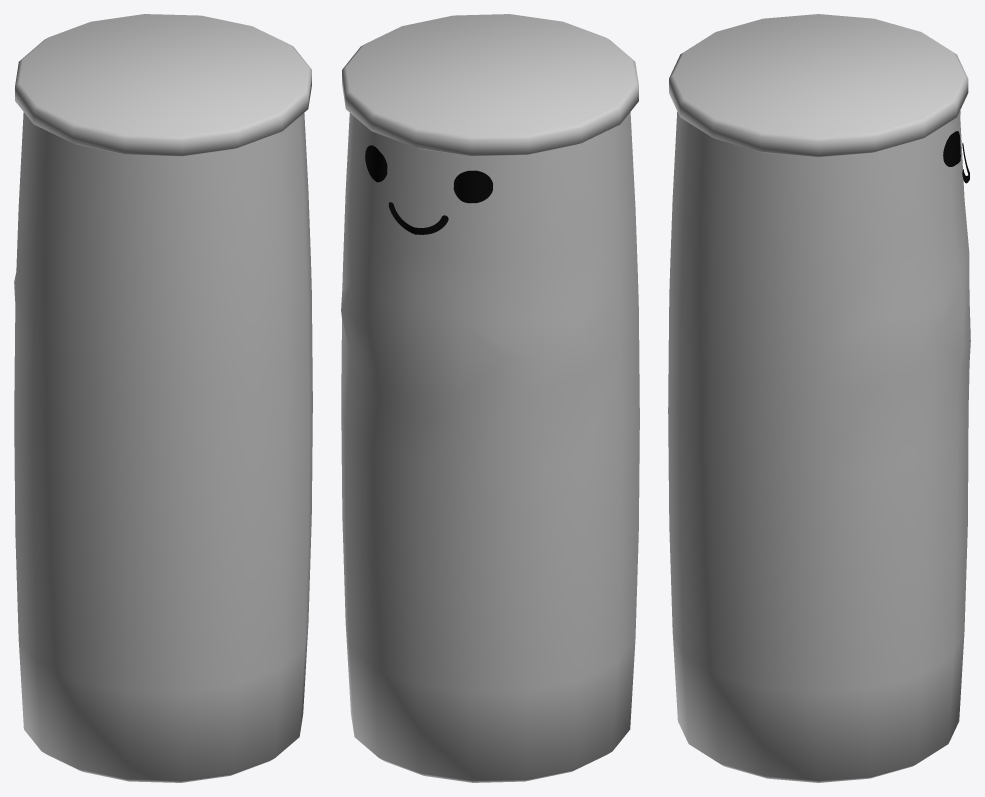
Rendered from chips_smile.fbx.
The picture shows the model from 3 angles, left to right: view 1: azimuth 30°, elevation 25°; view 2: azimuth 150°, elevation 25°; view 3: azimuth 270°, elevation 25°; orthographic projection.
Parts seen in each view (by area): view 1: chips_smile; view 2: chips_smile; view 3: chips_smile.
Boxes of the visible parts, left/top/right/bottom form: chips_smile: left=14, top=14, right=312, bottom=782; chips_smile: left=341, top=14, right=639, bottom=782; chips_smile: left=668, top=14, right=970, bottom=782.
Size of the model in its own units: 82.11 by 196 by 82.61.
Materials: 2 (1 with a texture image).
